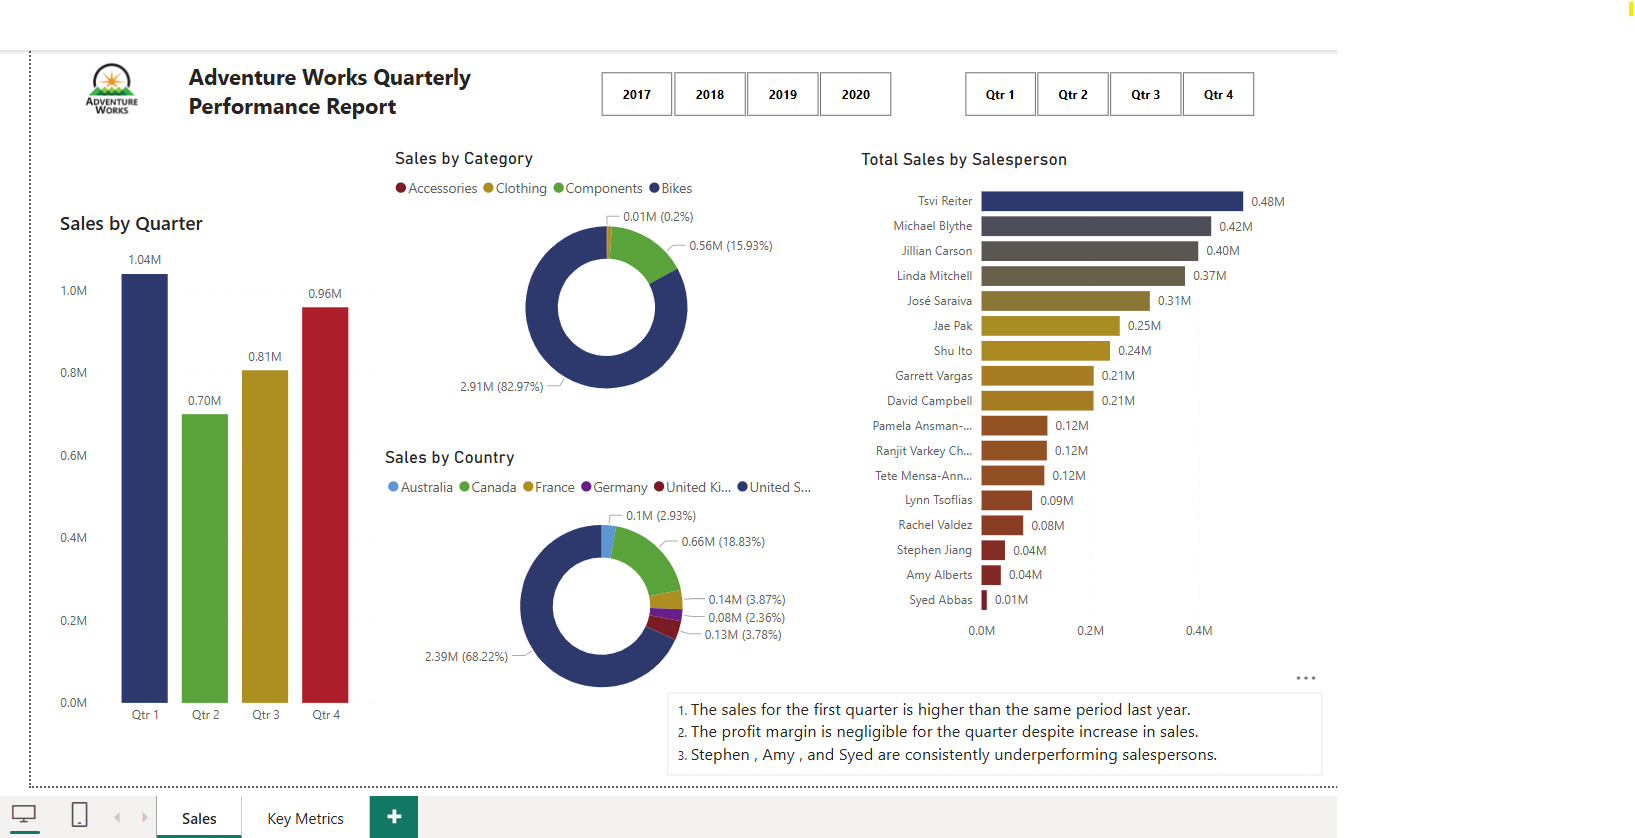

The dashboard page shown, as its layout file describes it:
{"tool":"powerbi","page":{"name":"Sales","canvas":[1280,720],"ordinal":0},"visuals":[{"type":"clusteredColumnChart","title":"Sales by Quarter","fields":{"Category":["Sales.OrderDate.Variation.Date Hierarchy.Quarter"],"Y":["Key Measures.Total Sales"]},"box":[23.2,156.5,317.9,512.4],"z":0},{"type":"donutChart","title":"Sales by Category","fields":{"Y":["Key Measures.Total Sales"],"Category":["Products.Category"]},"box":[351,95.4,424.3,264.1],"z":1000},{"type":"donutChart","title":"Sales by Country","fields":{"Category":["Region.Country","Sales.OrderDate.Variation.Date Hierarchy.Quarter"],"Y":["Key Measures.Total Sales"]},"box":[341.2,387.6,434.1,264.1],"z":2000},{"type":"clusteredBarChart","fields":{"Category":["Salesperson.Salesperson"],"Y":["Key Measures.Total Sales"]},"box":[807.1,96.6,441.4,490.4],"z":3000},{"type":"slicer","fields":{"Values":["Sales.OrderDate.Variation.Date Hierarchy.Year"]},"box":[531.9,14.7,333.8,56.3],"z":5000},{"type":"slicer","fields":{"Values":["Sales.OrderDate.Variation.Date Hierarchy.Quarter"]},"box":[887.8,14.7,332.6,56.3],"z":6000},{"type":"textbox","box":[149.2,6.1,354.6,89.3],"z":7000},{"type":"image","box":[8.6,4.9,140.6,66],"z":7001},{"type":"textbox","box":[622.4,628.5,640.8,80.7],"z":7002}]}

Visuals, with their boxes on the page's 1280x720 design canvas (x1, y1, x2, y2). These are canvas units, not pixel positions in the 1635x838 screenshot, which may show the page scaled, cropped or inside an application window:
"Sales by Quarter" clusteredColumnChart: 23 156 341 669
"Sales by Category" donutChart: 351 95 775 360
"Sales by Country" donutChart: 341 388 775 652
clusteredBarChart - Salesperson.Salesperson x Key Measures.Total Sales: 807 97 1248 587
slicer - Sales.OrderDate.Variation.Date Hierarchy.Year: 532 15 866 71
slicer - Sales.OrderDate.Variation.Date Hierarchy.Quarter: 888 15 1220 71
textbox: 149 6 504 95
image: 9 5 149 71
textbox: 622 628 1263 709
